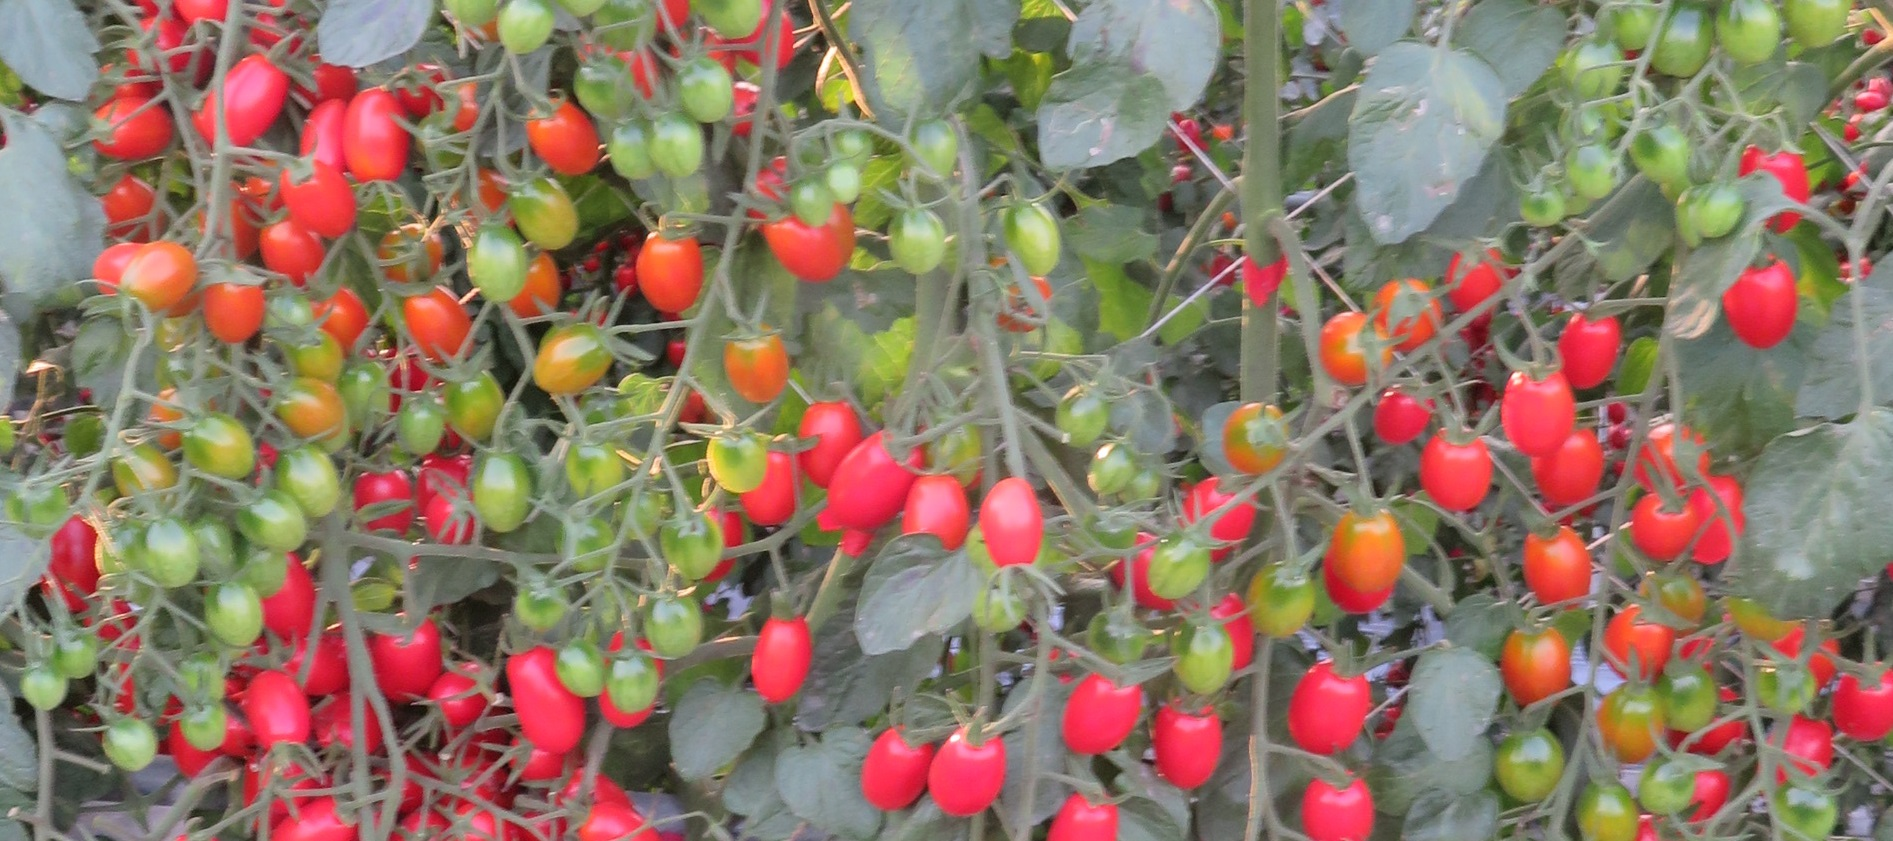green: (505, 176, 590, 249), (1598, 677, 1668, 759), (529, 329, 608, 399), (1491, 732, 1578, 796), (462, 233, 535, 306), (196, 573, 263, 646), (1170, 625, 1240, 694), (890, 212, 954, 287), (1248, 566, 1312, 639), (467, 452, 528, 530), (182, 411, 254, 473), (136, 516, 196, 588), (670, 66, 738, 128), (1008, 214, 1068, 281), (1143, 541, 1215, 597), (1633, 128, 1689, 200), (650, 115, 709, 182), (235, 492, 305, 547), (1052, 381, 1116, 440), (1724, 1, 1782, 66), (1659, 4, 1708, 78), (283, 455, 349, 510), (643, 594, 701, 656), (706, 431, 764, 492), (1664, 682, 1726, 738), (343, 366, 390, 440), (97, 714, 158, 770), (608, 119, 658, 188), (1770, 788, 1831, 841), (1783, 1, 1856, 46), (1579, 782, 1633, 841), (1566, 144, 1621, 199), (602, 659, 662, 709), (664, 516, 711, 578), (578, 59, 631, 113), (1078, 446, 1132, 497), (553, 646, 606, 696), (394, 398, 436, 460), (683, 2, 767, 33), (509, 591, 566, 633), (190, 522, 238, 572), (448, 381, 499, 428), (911, 125, 959, 175), (1609, 4, 1662, 47), (1643, 773, 1701, 813), (177, 702, 231, 744), (563, 449, 622, 486), (503, 1, 546, 52), (788, 183, 837, 226), (1696, 194, 1742, 234), (120, 456, 168, 492), (27, 665, 66, 708), (1524, 194, 1559, 236), (820, 177, 861, 208), (245, 551, 283, 584), (187, 656, 225, 689), (63, 639, 95, 674), (837, 139, 872, 168)
orange: (720, 333, 793, 399), (635, 239, 701, 310), (1528, 539, 1595, 608), (1380, 279, 1441, 350), (409, 294, 473, 362), (1227, 405, 1294, 468), (127, 245, 196, 306), (1342, 520, 1399, 588), (1320, 317, 1390, 370), (1510, 635, 1566, 699)
red: (819, 431, 905, 526), (1282, 674, 1384, 755), (927, 726, 1004, 824), (1058, 683, 1149, 757), (977, 468, 1047, 559), (215, 66, 295, 144), (1508, 370, 1572, 465), (854, 732, 927, 813), (745, 613, 810, 702), (509, 660, 577, 744), (280, 165, 356, 239), (1152, 714, 1225, 788), (362, 629, 436, 699), (1732, 276, 1800, 349), (346, 88, 398, 182), (1425, 442, 1491, 509), (1301, 782, 1371, 841), (238, 677, 299, 738), (1567, 313, 1617, 387), (1831, 687, 1893, 744), (911, 486, 961, 551), (263, 221, 319, 275), (1047, 800, 1119, 841), (1374, 395, 1429, 446)
